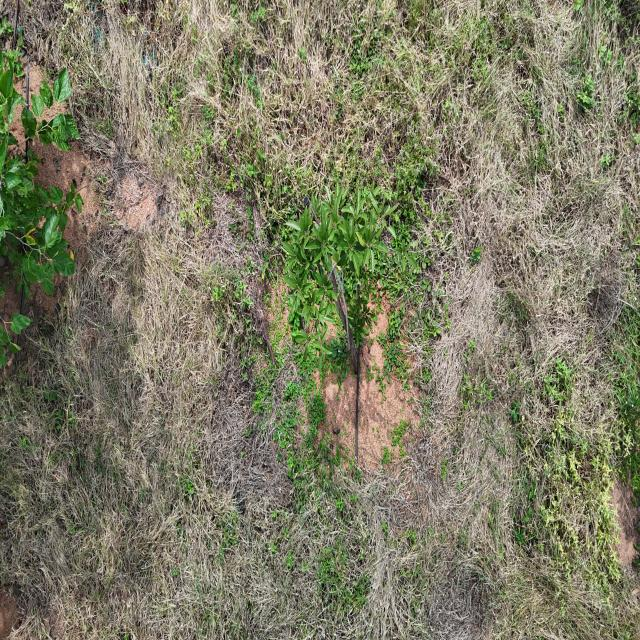mangoTree: (279, 186, 400, 345)
notMangoTree: (0, 7, 85, 374)
